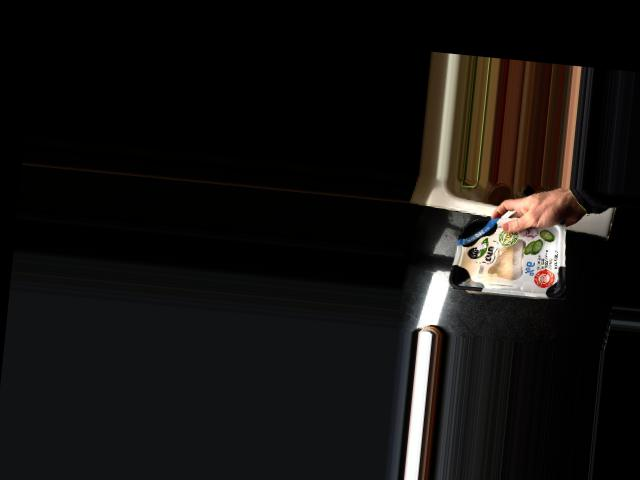cheese: (450, 204, 572, 300)
